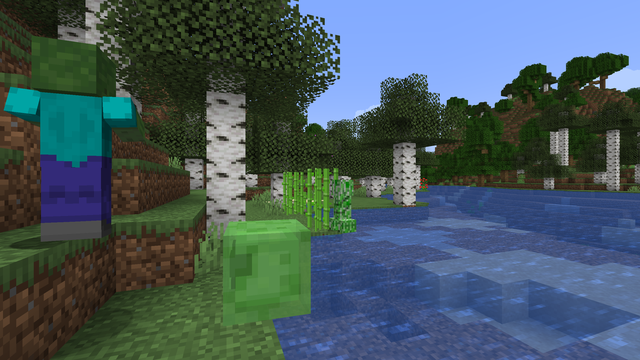creepers: (330, 177, 354, 232)
slimes: (224, 216, 314, 328)
zombies: (20, 37, 122, 246)
